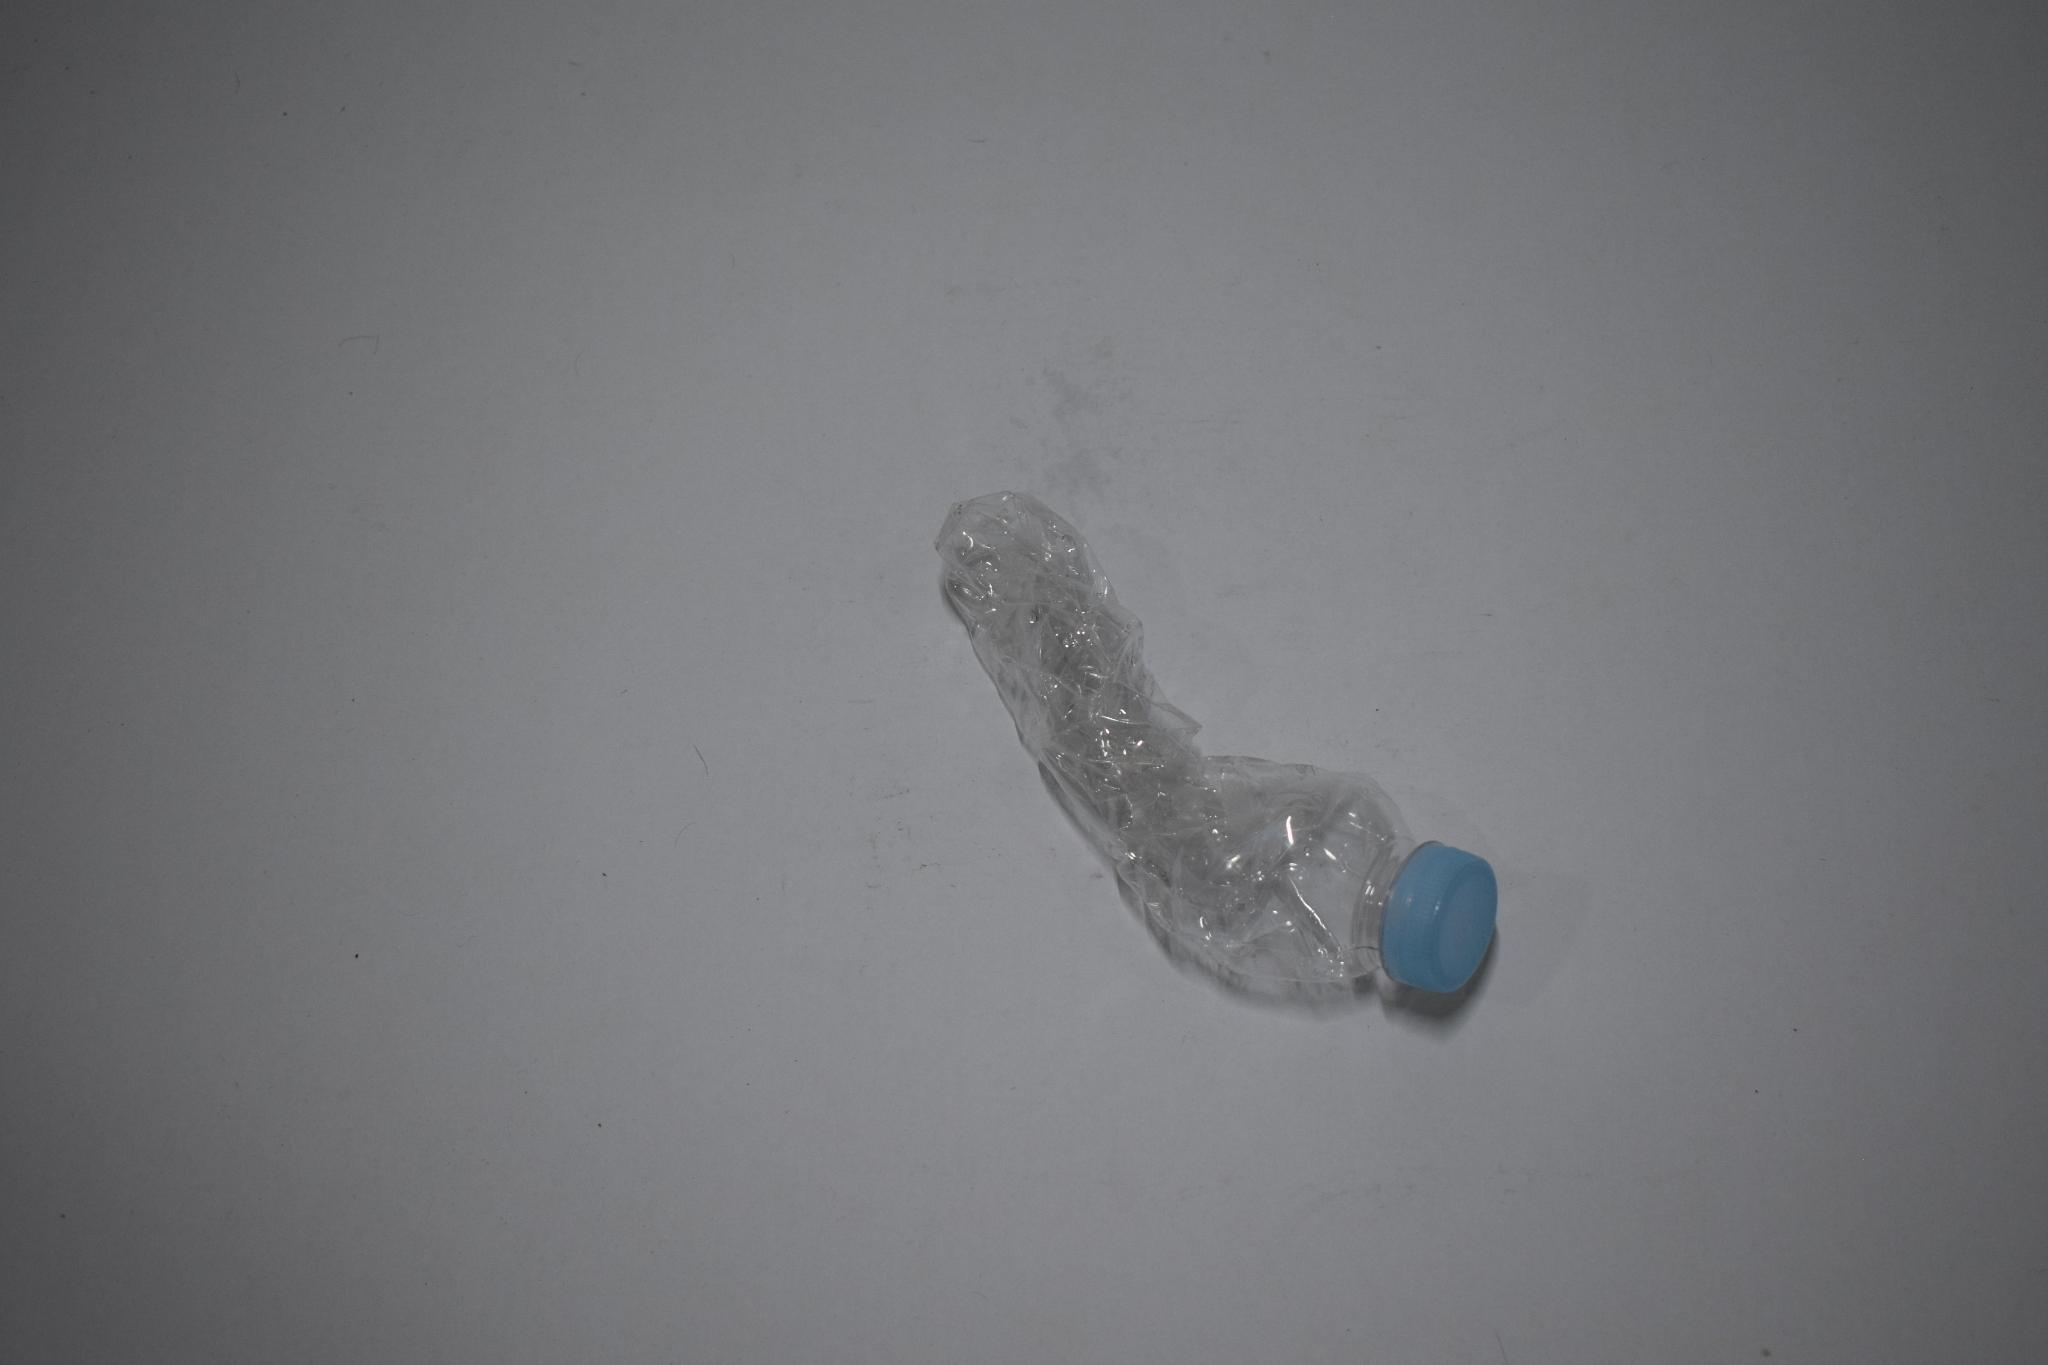bottle: (910, 466, 1510, 1060)
